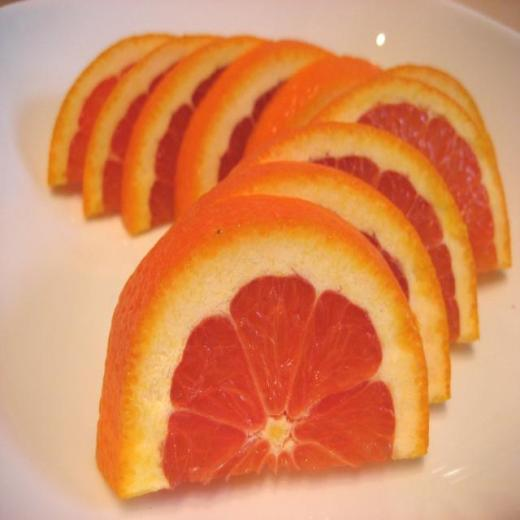Grape: (90, 198, 417, 482)
